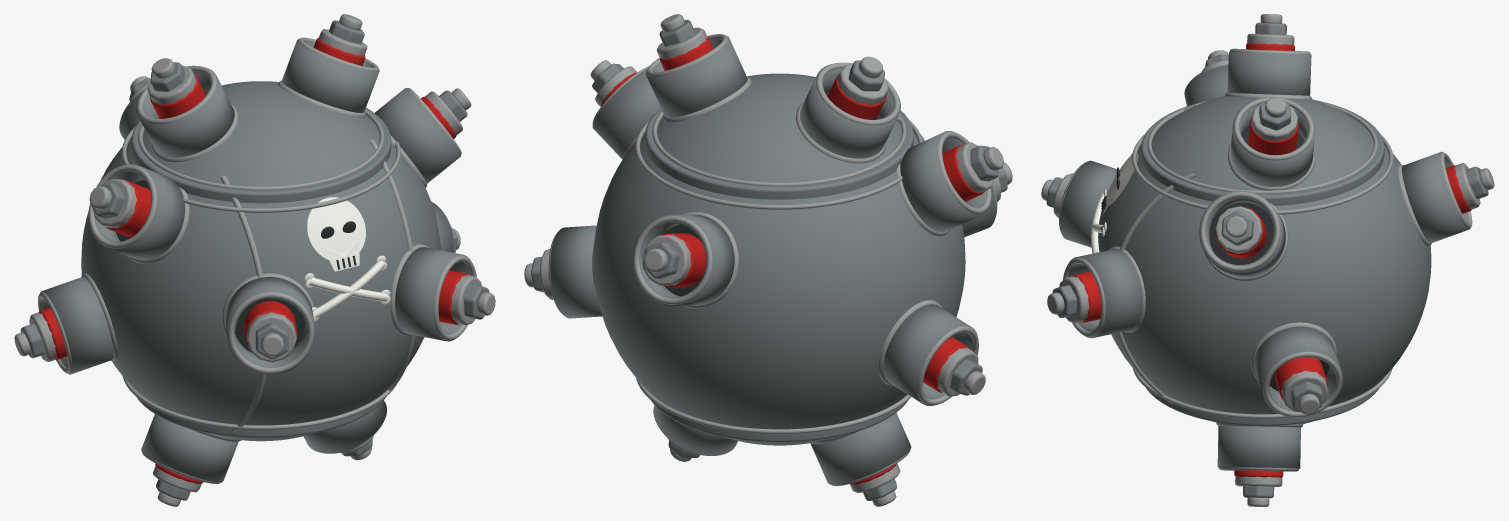
The model's file is mine_skull.fbx.
3 renders of one model, left to right at view 1: azimuth 30°, elevation 25°; view 2: azimuth 150°, elevation 25°; view 3: azimuth 270°, elevation 25°, orthographic. The views are drawn at different scales.
Parts seen in each view (by area): view 1: Spherical steel shell, Open steel socket 8, Open steel socket 5, Open steel socket 1, Reinforcing steel band.001, Open steel socket 4, Open steel socket 3, Open steel socket 6, Open steel socket 2, Open steel socket 0, Painted skull cranium, Open steel socket 7 (+33 smaller); view 2: Spherical steel shell, Reinforcing steel band.001, Open steel socket 5, Open steel socket 2, Open steel socket 8, Open steel socket 4, Open steel socket 6, Open steel socket 9, Open steel socket 10, Open steel socket 3, Reinforcing steel band, Weld bead on band.002 (+26 smaller); view 3: Spherical steel shell, Open steel socket 10, Open steel socket 1, Open steel socket 4, Open steel socket 7, Reinforcing steel band.001, Open steel socket 5, Open steel socket 9, Open steel socket 0, Weld bead on band.003, Open steel socket 3, Reinforcing steel band (+24 smaller).
Boxes of the visible parts, left/top/right/bottom form: Spherical steel shell: left=81, top=81, right=440, bottom=441; Open steel socket 8: left=40, top=277, right=113, bottom=374; Open steel socket 5: left=281, top=39, right=379, bottom=112; Open steel socket 1: left=395, top=247, right=471, bottom=341; Reinforcing steel band.001: left=131, top=107, right=391, bottom=203; Open steel socket 4: left=136, top=67, right=234, bottom=157; Open steel socket 3: left=375, top=88, right=460, bottom=183; Open steel socket 6: left=141, top=414, right=238, bottom=482; Open steel socket 2: left=88, top=164, right=184, bottom=260; Open steel socket 0: left=225, top=277, right=314, bottom=374; Painted skull cranium: left=307, top=197, right=365, bottom=262; Open steel socket 7: left=303, top=400, right=386, bottom=453; Spherical steel shell: left=593, top=73, right=965, bottom=445; Reinforcing steel band.001: left=645, top=108, right=913, bottom=199; Open steel socket 5: left=646, top=36, right=747, bottom=117; Open steel socket 2: left=900, top=131, right=988, bottom=232; Open steel socket 8: left=883, top=304, right=977, bottom=405; Open steel socket 4: left=799, top=64, right=900, bottom=158; Open steel socket 6: left=810, top=412, right=911, bottom=484; Open steel socket 9: left=550, top=225, right=602, bottom=318; Open steel socket 10: left=633, top=214, right=734, bottom=305; Open steel socket 3: left=592, top=69, right=660, bottom=159; Reinforcing steel band: left=650, top=399, right=908, bottom=442; Weld bead on band.002: left=635, top=120, right=922, bottom=209; Spherical steel shell: left=1098, top=96, right=1431, bottom=423; Open steel socket 10: left=1402, top=151, right=1470, bottom=243; Open steel socket 1: left=1068, top=249, right=1141, bottom=338; Open steel socket 4: left=1227, top=51, right=1311, bottom=95; Open steel socket 7: left=1217, top=426, right=1300, bottom=468; Reinforcing steel band.001: left=1141, top=100, right=1384, bottom=205; Open steel socket 5: left=1230, top=97, right=1315, bottom=186; Open steel socket 9: left=1254, top=326, right=1342, bottom=417; Open steel socket 0: left=1060, top=160, right=1116, bottom=247; Weld bead on band.003: left=1147, top=101, right=1377, bottom=193; Open steel socket 3: left=1199, top=190, right=1285, bottom=278; Reinforcing steel band: left=1146, top=388, right=1379, bottom=425.
Size of the model in its own units: 565 by 537 by 537.
